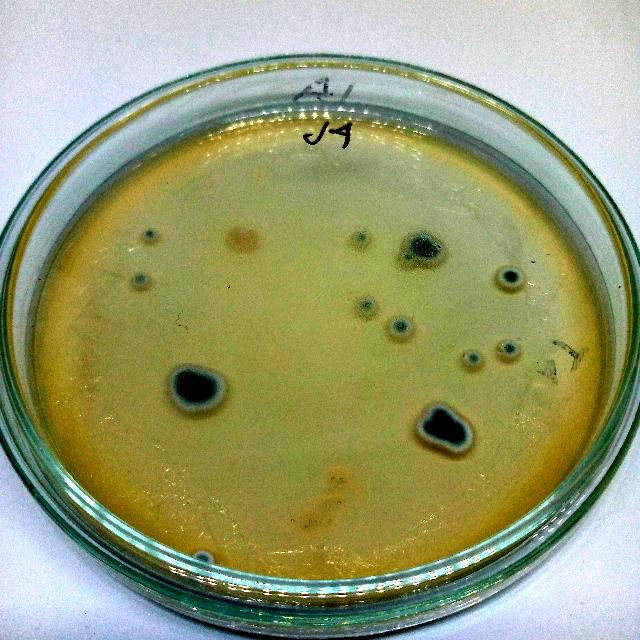colony: (167, 365, 229, 415), (436, 416, 479, 459), (218, 220, 264, 260), (408, 232, 448, 266), (494, 262, 526, 292), (188, 543, 218, 571), (387, 315, 418, 341), (461, 346, 485, 372), (354, 294, 378, 320), (415, 416, 439, 442), (498, 338, 522, 359), (430, 404, 452, 424), (139, 224, 161, 243), (130, 270, 152, 288), (351, 230, 371, 247), (401, 250, 415, 266)
